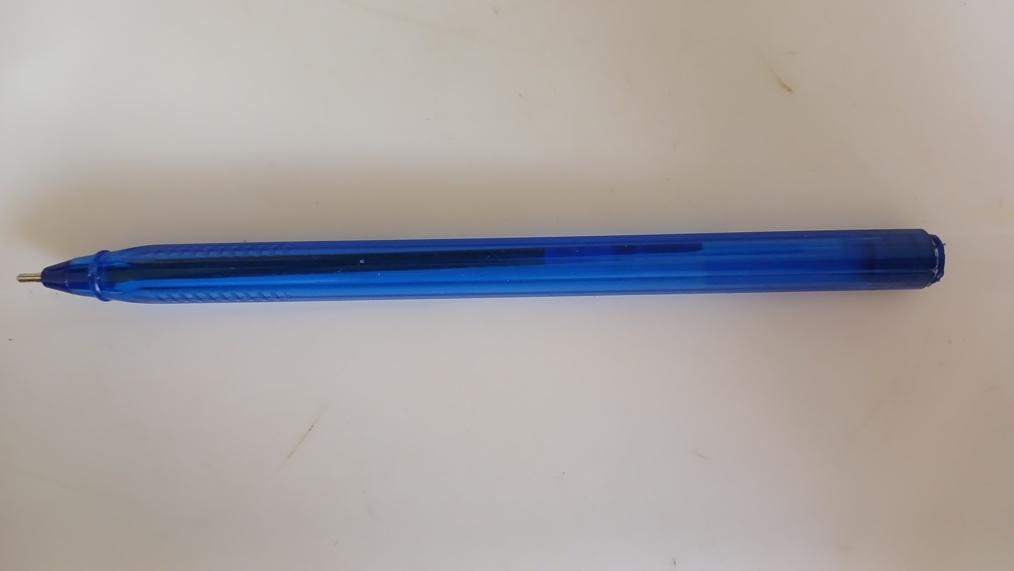pen: (13, 224, 945, 301)
